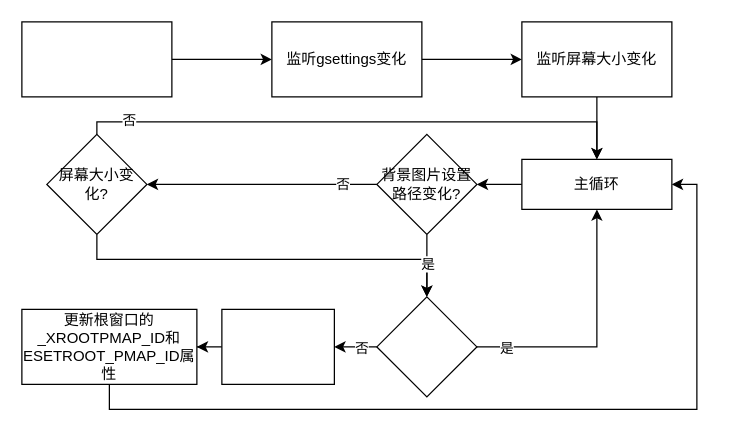
The diagram is 729 pixels wide and 441 high, and some of its shapes have lost their labels. Here are the shapes that lost their labels. From the top down, the centre of each, then its label:
At [96,59]: "开始".
At [277,346]: "加载背景图片，销毁之前设置的背景，绘制新的桌面背景".
At [426,346]: "caja是否设置桌面背景？".
